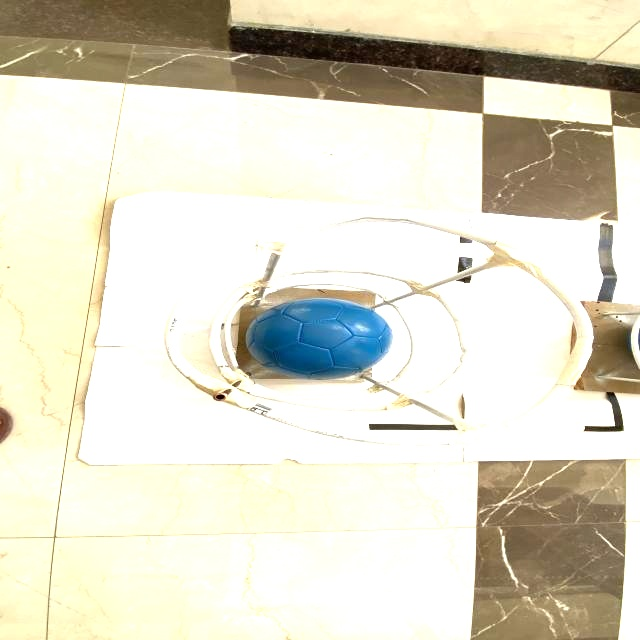blue_ball: (243, 291, 411, 380)
silo: (155, 206, 600, 455)
